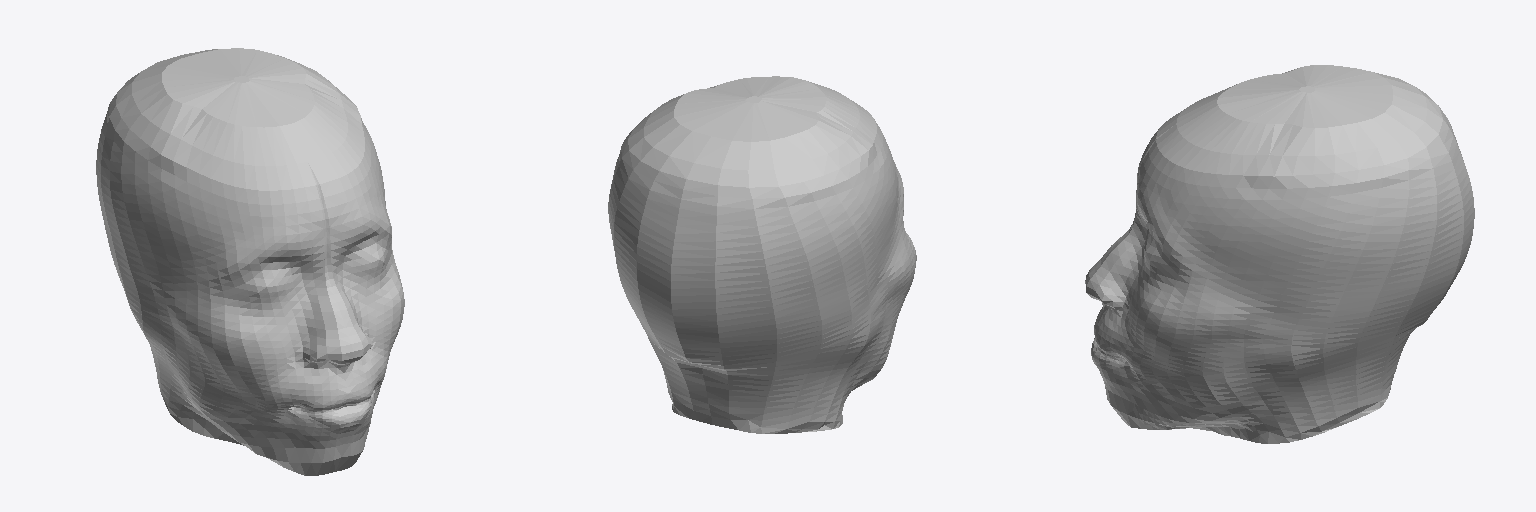
File: Neck.obj
3 views of the same model, side by side, from view 1: azimuth 30°, elevation 25°; view 2: azimuth 150°, elevation 25°; view 3: azimuth 270°, elevation 25° (orthographic).
Parts seen in each view (by area): view 1: polySurface36 polySurface34 polySurface22 polySurface18 polySurf; view 2: polySurface36 polySurface34 polySurface22 polySurface18 polySurf; view 3: polySurface36 polySurface34 polySurface22 polySurface18 polySurf.
Part boxes in pixels (bbox=[...]): polySurface36 polySurface34 polySurface22 polySurface18 polySurf: bbox=[96, 48, 404, 475]; polySurface36 polySurface34 polySurface22 polySurface18 polySurf: bbox=[608, 76, 916, 433]; polySurface36 polySurface34 polySurface22 polySurface18 polySurf: bbox=[1085, 65, 1474, 443].
Bounding box in the file's own units: 6.99 × 9.45 × 10.02.